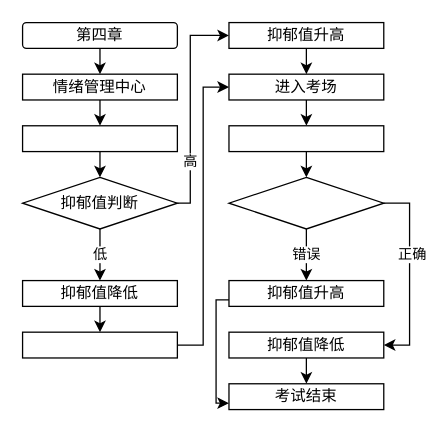
Image size: 448x436. Some labels were removed from this diagram. The centre of each missing label's shape, as x and y in pixels:
"填涂正确" belongs at (x=306, y=202).
"玩家填涂答题卡" belongs at (x=306, y=138).
"获得贴图" belongs at (x=99, y=344).
"选择解压方式" belongs at (x=99, y=138).
